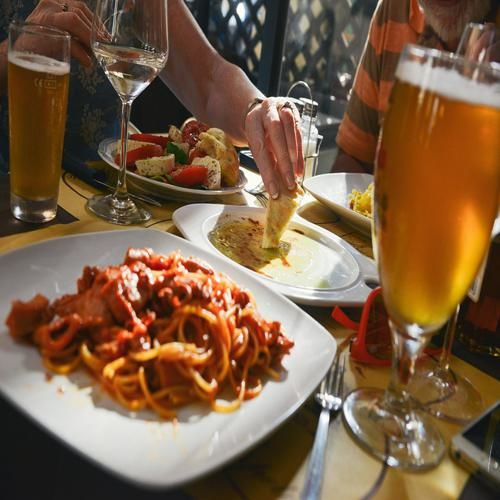copa: (339, 36, 500, 474), (82, 1, 170, 228)
vaso: (5, 21, 65, 225)
